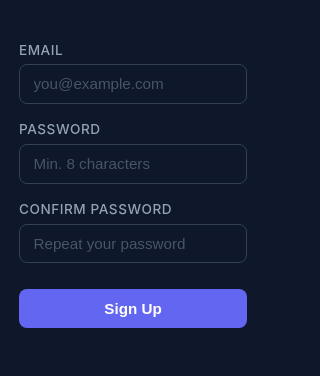
SignupForm › shows an error for an invalid email
Type "not-an-email" into the field labelled "Email" at (133, 84), box [19,64,247,104]
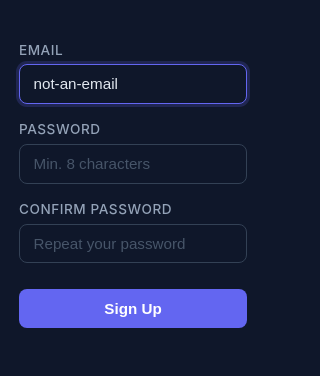
Type "password123" into the password field labelled "Password" at (133, 164), box [19,144,247,184]
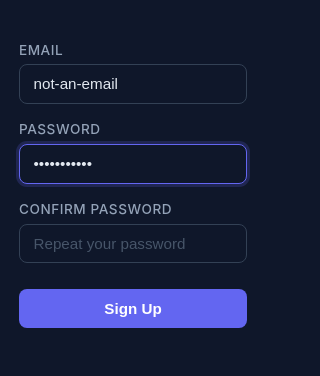
Type "password123" into the password field labelled "Confirm Password" at (133, 244), box [19,224,247,263]
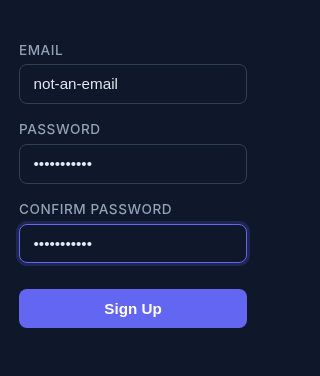
Click the button "Sign Up" at (133, 309), box [19,289,247,328]
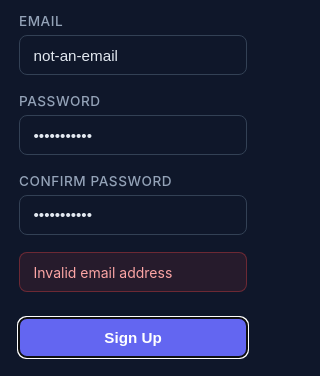
Expected: the text "Invalid email address" is shown, [19,252,247,292]
